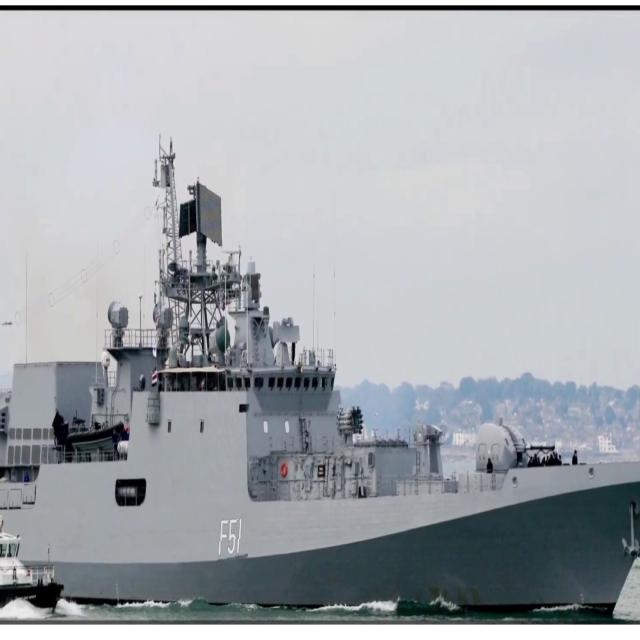OCR: (217, 512, 250, 564)
